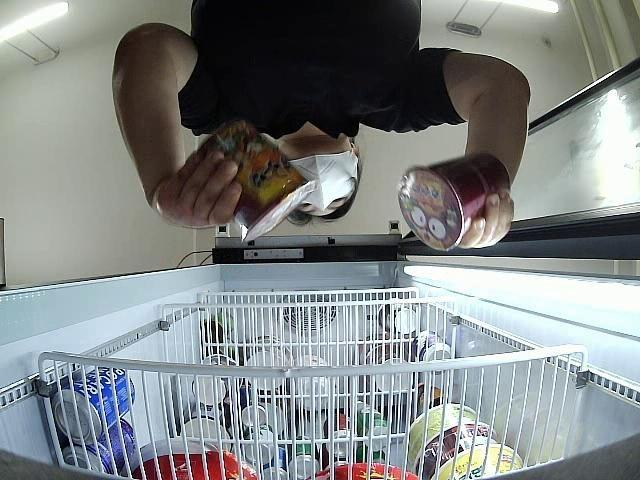06_nuguri_S: (198, 118, 312, 244), (396, 152, 509, 253)
